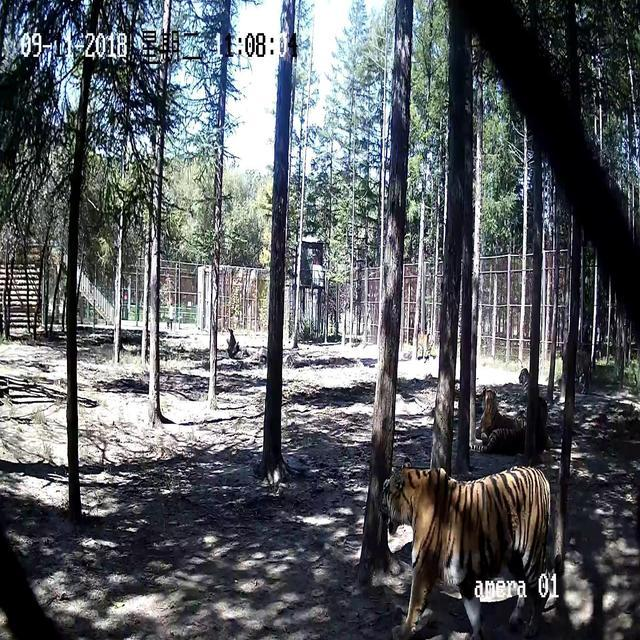tiger: (379, 462, 559, 639), (474, 387, 550, 455)
